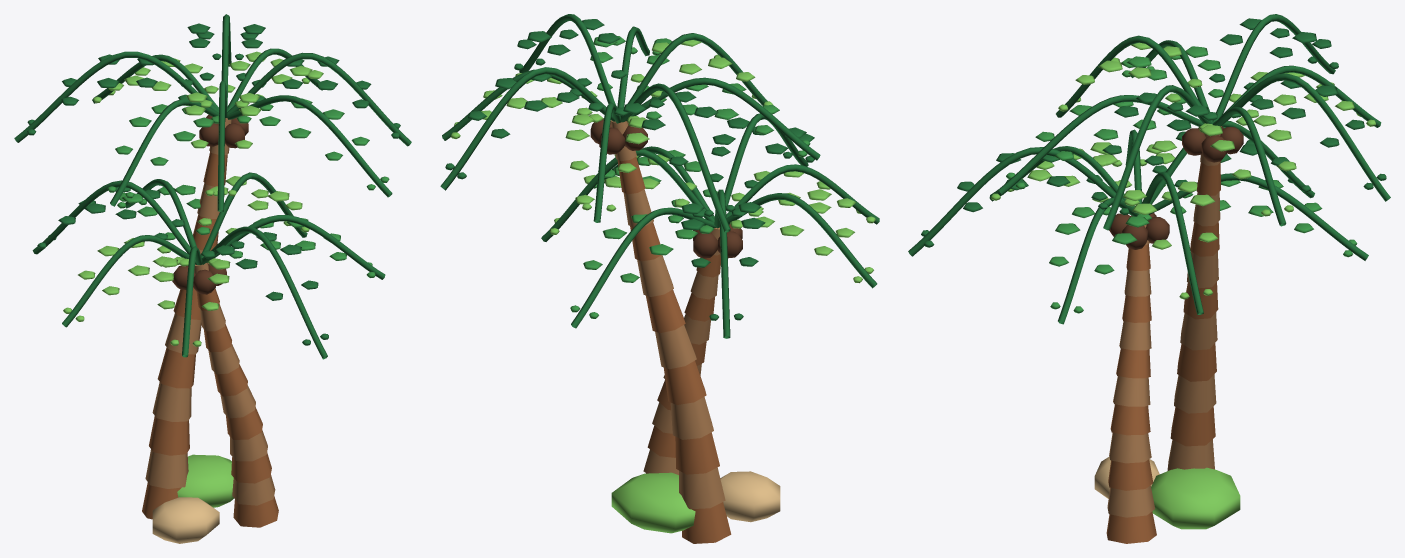
Rendered from palm-cluster.glb.
The picture shows the model from 3 angles, left to right: view 1: azimuth 30°, elevation 25°; view 2: azimuth 150°, elevation 25°; view 3: azimuth 270°, elevation 25°; orthographic projection. The views are drawn at different scales.
Parts seen in each view (by area): view 1: Mesh_leafDark, Mesh_wood, Mesh_leafLight, Mesh_palmBark, Mesh_leaf, Mesh_sandStone, Mesh_darkWood; view 2: Mesh_leafDark, Mesh_leafLight, Mesh_wood, Mesh_palmBark, Mesh_leaf, Mesh_sandStone, Mesh_darkWood; view 3: Mesh_leafDark, Mesh_leafLight, Mesh_wood, Mesh_palmBark, Mesh_leaf, Mesh_darkWood, Mesh_sandStone.
Boxes of the visible parts, bbox=[...] form: Mesh_leafDark: bbox=[14, 14, 411, 359]; Mesh_wood: bbox=[142, 151, 278, 527]; Mesh_leafLight: bbox=[63, 51, 323, 507]; Mesh_palmBark: bbox=[145, 118, 275, 505]; Mesh_leaf: bbox=[107, 98, 389, 277]; Mesh_sandStone: bbox=[152, 497, 219, 543]; Mesh_darkWood: bbox=[172, 114, 248, 294]; Mesh_leafDark: bbox=[440, 14, 879, 338]; Mesh_leafLight: bbox=[451, 40, 875, 533]; Mesh_wood: bbox=[617, 157, 731, 543]; Mesh_palmBark: bbox=[610, 120, 725, 509]; Mesh_leaf: bbox=[570, 36, 810, 318]; Mesh_sandStone: bbox=[720, 471, 780, 522]; Mesh_darkWood: bbox=[590, 118, 742, 258]; Mesh_leafDark: bbox=[908, 14, 1390, 324]; Mesh_leafLight: bbox=[991, 42, 1375, 529]; Mesh_wood: bbox=[1106, 162, 1220, 543]; Mesh_palmBark: bbox=[1107, 126, 1221, 517]; Mesh_leaf: bbox=[1006, 46, 1357, 313]; Mesh_darkWood: bbox=[1109, 126, 1243, 249]; Mesh_sandStone: bbox=[1094, 457, 1159, 498].
Bounding box in the file's own units: 4.15 × 5.13 × 4.61.
